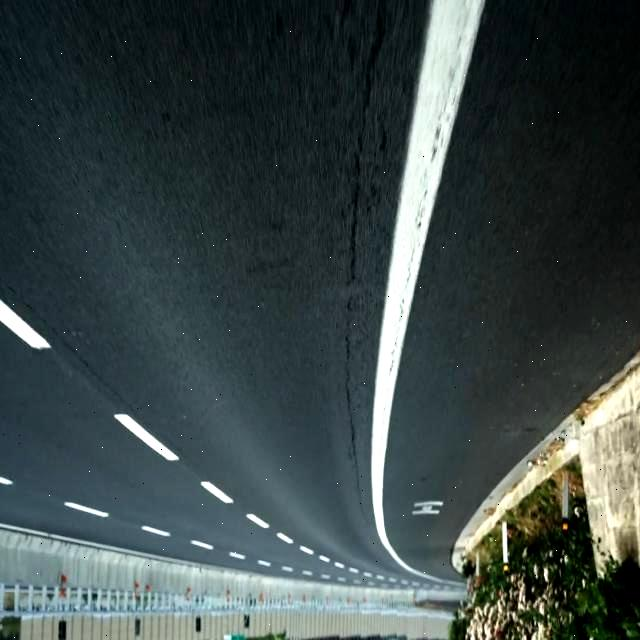lane: (371, 1, 485, 585), (114, 414, 179, 460), (0, 301, 51, 348), (201, 481, 234, 504), (64, 502, 109, 518), (246, 514, 269, 529)
road: (0, 1, 430, 582), (384, 1, 639, 578)
